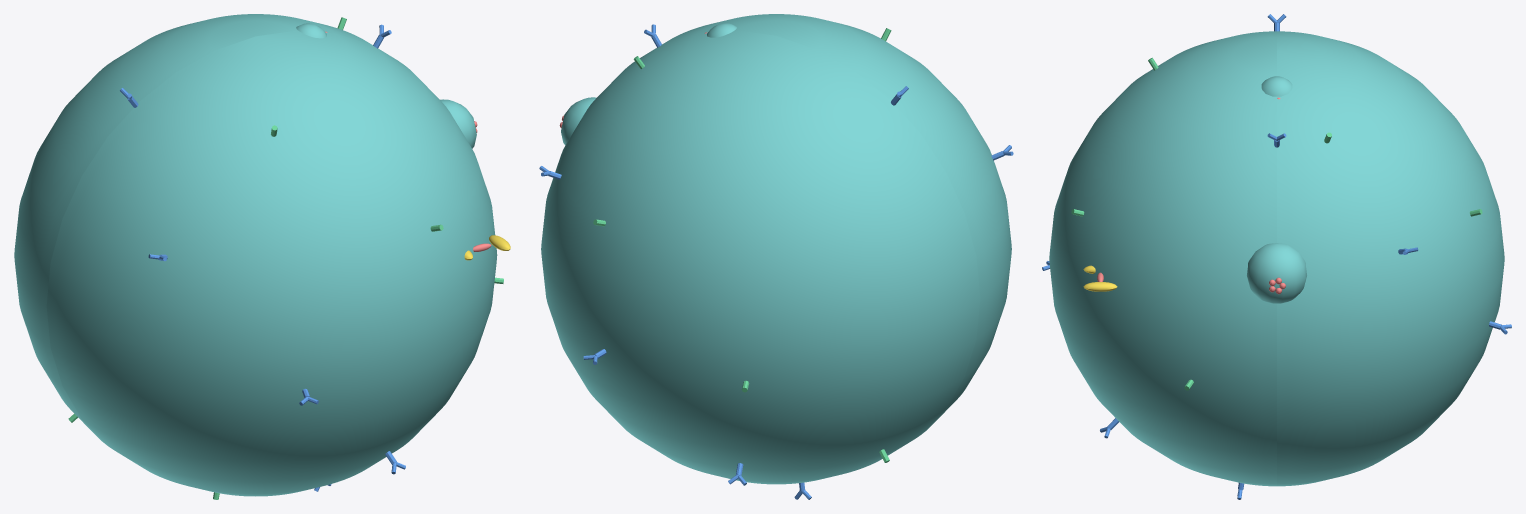
Rendered from hiv_cd4_cell.glb.
3 views of the same model, side by side, from view 1: azimuth 30°, elevation 25°; view 2: azimuth 150°, elevation 25°; view 3: azimuth 270°, elevation 25° (orthographic). The views are drawn at different scales.
Parts seen in each view (by area): view 1: membrane-front, membrane-back, budding-virions, cd4-receptors; view 2: membrane-back, membrane-front, cd4-receptors, budding-virions; view 3: membrane-back, membrane-front, budding-virions, cd4-receptors.
Part boxes in pixels (x1,y1,x2,y2): membrane-front: (46, 30, 497, 496); membrane-back: (14, 14, 399, 444); budding-virions: (296, 23, 477, 148); cd4-receptors: (120, 24, 405, 491); membrane-back: (541, 30, 980, 484); membrane-front: (640, 14, 1011, 434); cd4-receptors: (539, 24, 1013, 499); budding-virions: (559, 23, 736, 145); membrane-back: (1277, 31, 1504, 486); membrane-front: (1049, 31, 1276, 486); budding-virions: (1247, 76, 1306, 303); cd4-receptors: (1042, 14, 1511, 499).
Size of the model in its own units: 0.4094 by 0.4122 by 0.4126.
